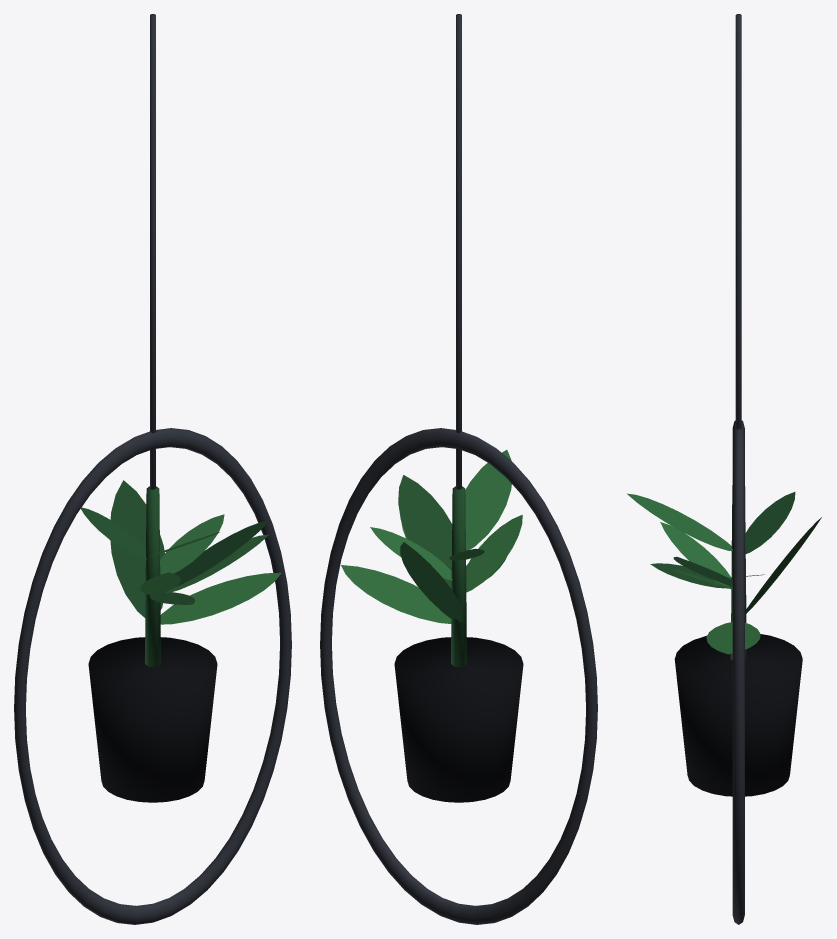
File: Deco_HangingPlanter.glb
3 views of the same model, side by side, from view 1: azimuth 30°, elevation 25°; view 2: azimuth 150°, elevation 25°; view 3: azimuth 270°, elevation 25° (orthographic).
Parts seen in each view (by area): view 1: Deco_HangingPlanter; view 2: Deco_HangingPlanter; view 3: Deco_HangingPlanter.
Part boxes in pixels (x1,y1,x2,y2): Deco_HangingPlanter: (14, 14, 291, 924); Deco_HangingPlanter: (320, 14, 597, 924); Deco_HangingPlanter: (627, 14, 821, 924).
Size of the model in its own units: 0.416 by 1.3 by 0.2574.
